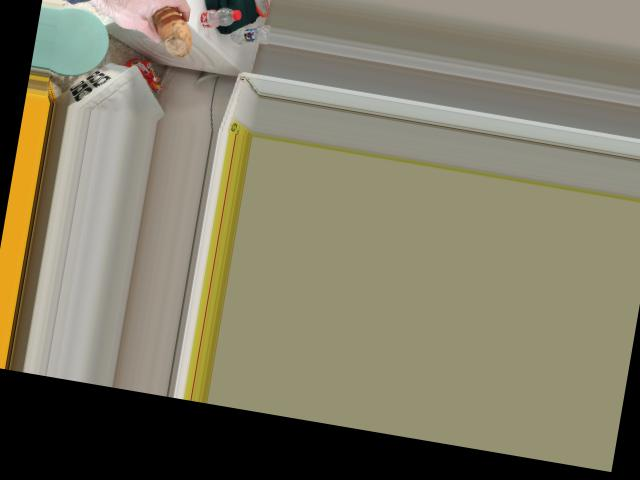sweet_potato: (147, 7, 198, 57)
